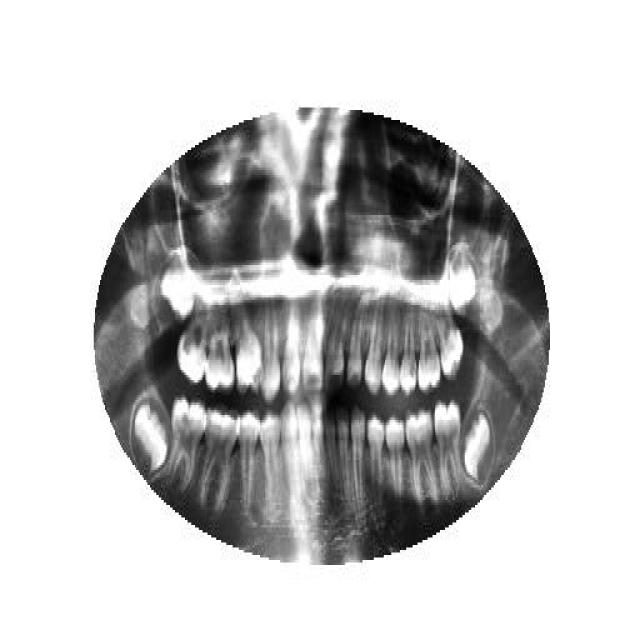Impacted Tooth: (128, 392, 174, 480), (458, 405, 498, 490)
